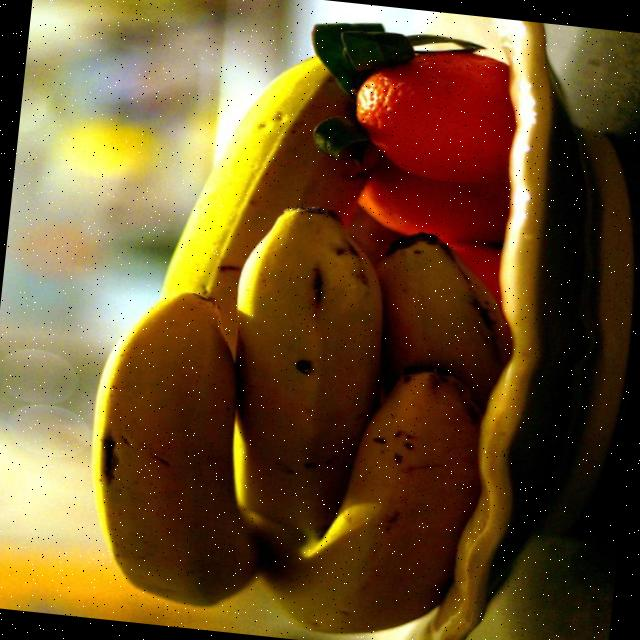banana: (259, 366, 485, 636), (91, 291, 262, 607), (237, 205, 387, 526)
